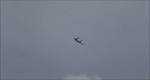maybay_muctieu: (72, 34, 85, 45)
